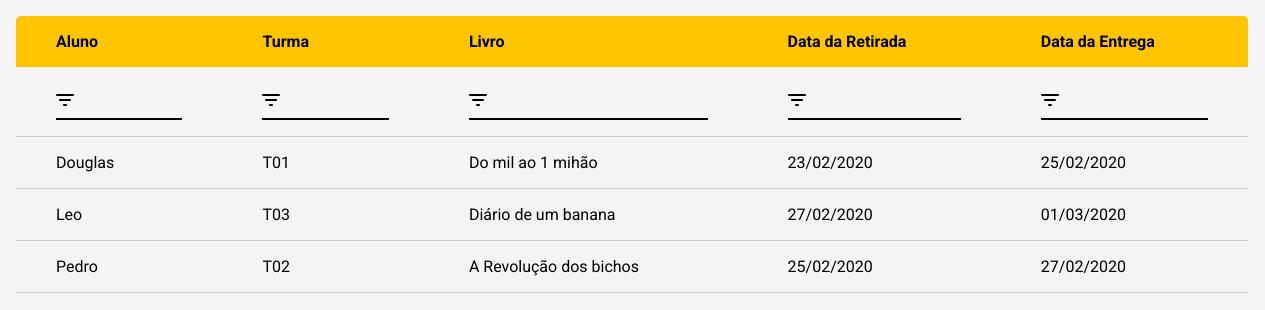
<HistoryLoans /> › should order the lines for withdrawal dates to be in calendar order when the button is clicked and to be in reverse order if it clicked again
Check: the row with test id "loanLine" shows "23/02/2020", box top-left (788, 153), bottom-right (873, 172)
Click the element with test id "sortWithdrawalDate" at (874, 102), box top-left (788, 83), bottom-right (961, 120)
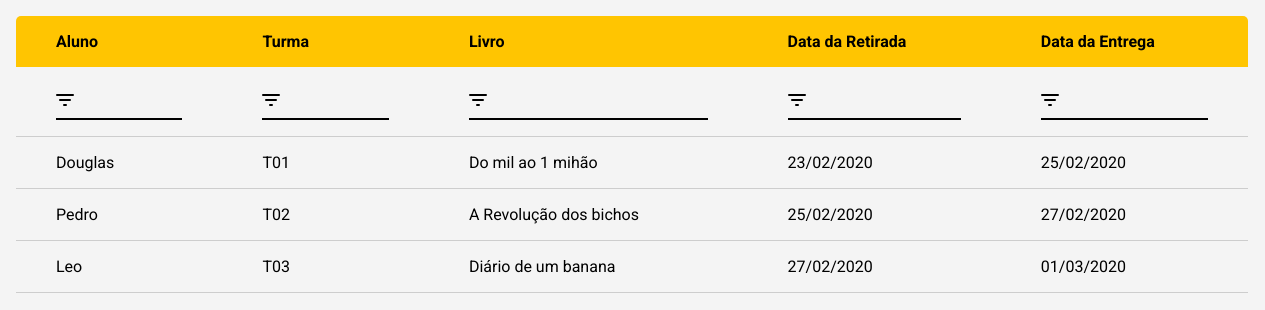
Check: the row with test id "loanLine" shows "23/02/2020", box top-left (788, 153), bottom-right (873, 172)
Click the element with test id "sortWithdrawalDate" at (874, 102), box top-left (788, 83), bottom-right (961, 120)
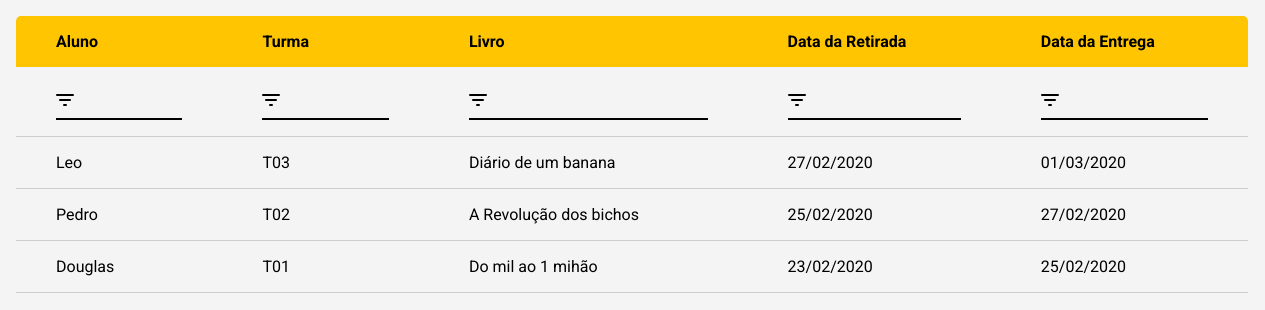
Check: the row with test id "loanLine" shows "27/02/2020", box top-left (788, 153), bottom-right (873, 172)
